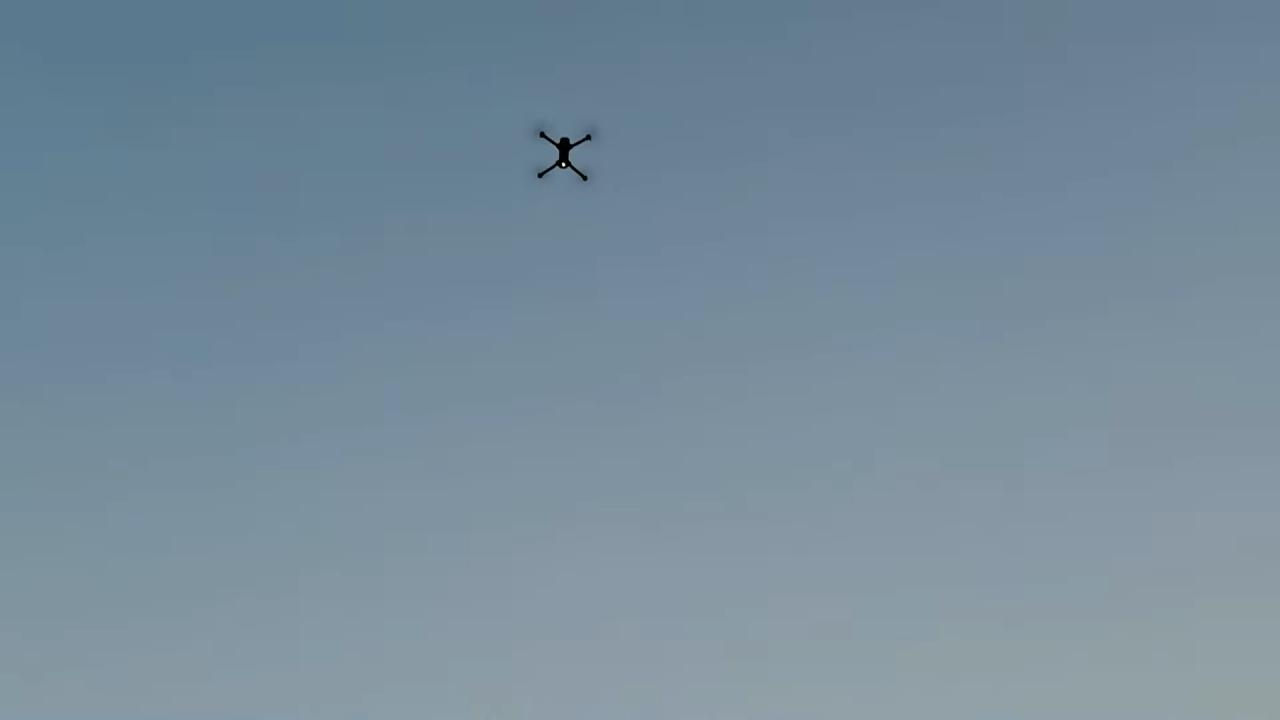Drone: (516, 107, 613, 200)
